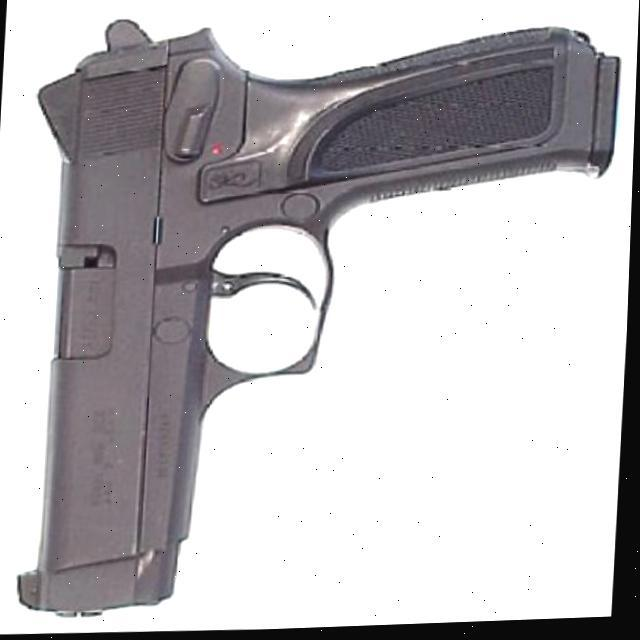gun: (9, 3, 624, 630)
